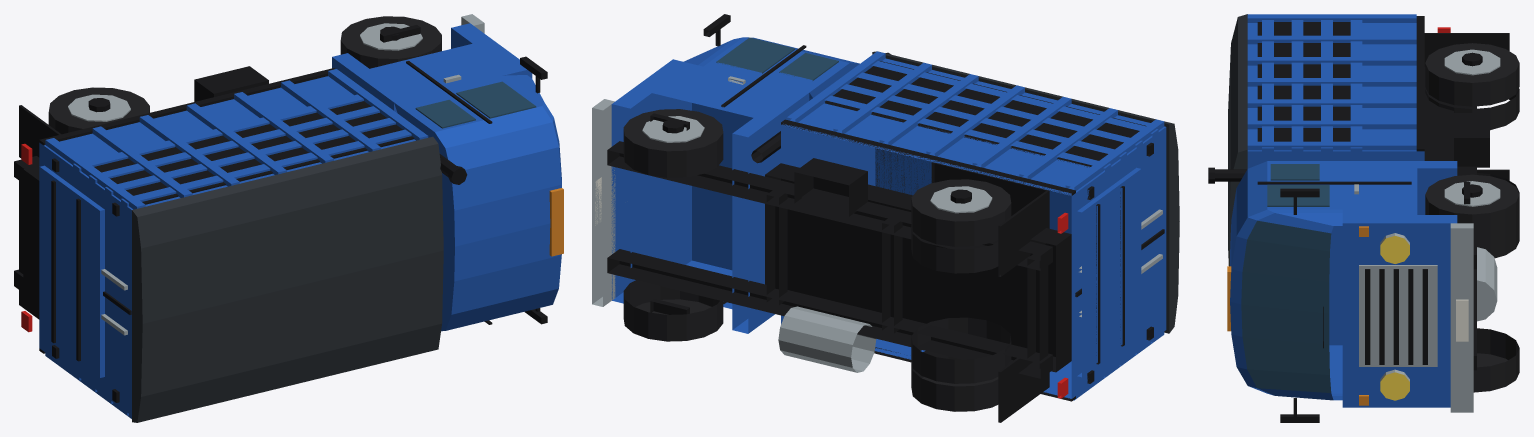
The picture shows the model from 3 angles, left to right: view 1: azimuth 30°, elevation 25°; view 2: azimuth 150°, elevation 25°; view 3: azimuth 270°, elevation 25°; orthographic projection. The views are drawn at different scales.
Parts seen in each view (by area): view 1: default_roof, default_cab_upper, default_body, default_ramp, default_side1_-3.45_2.70_black, default_cab_arch, default_front1, default_rear_out1, default_subframe, default_side1_-3.60_2.70_cc1, default_side1_-3.60_3.60_cc1, default_side1_-3.60_4.05_cc1 (+18 smaller); view 2: default_body, default_subframe, default_cab_arch, default_chassis-1, default_ramp, default_cab_front, default_side1_-3.45_2.70_black, default_cab_back, default_chassis1, default_front1, default_rear_out1, default_fuel_tank (+30 smaller); view 3: default_cab_upper, default_cab_front, default_body, default_grille, default_rear_out1, default_side1_-3.45_2.70_black, default_front1, default_bumper, default_cab_arch, default_roof, default_front-1, default_battery_box (+34 smaller).
Boxes of the visible parts, left/top/right/bottom form: default_roof: left=132, top=136, right=443, bottom=422; default_cab_upper: left=394, top=75, right=561, bottom=331; default_body: left=39, top=76, right=415, bottom=415; default_ramp: left=39, top=165, right=104, bottom=377; default_side1_-3.45_2.70_black: left=94, top=101, right=414, bottom=204; default_cab_arch: left=370, top=43, right=513, bottom=98; default_front1: left=340, top=16, right=441, bottom=68; default_rear_out1: left=48, top=87, right=149, bottom=134; default_subframe: left=23, top=165, right=39, bottom=308; default_side1_-3.60_2.70_cc1: left=73, top=94, right=363, bottom=171; default_side1_-3.60_3.60_cc1: left=105, top=118, right=395, bottom=194; default_side1_-3.60_4.05_cc1: left=121, top=129, right=411, bottom=206; default_body: left=781, top=58, right=1166, bottom=398; default_subframe: left=765, top=163, right=1071, bottom=372; default_cab_arch: left=652, top=64, right=793, bottom=308; default_chassis-1: left=607, top=249, right=1052, bottom=378; default_ramp: left=1077, top=167, right=1141, bottom=377; default_cab_front: left=611, top=59, right=691, bottom=303; default_side1_-3.45_2.70_black: left=825, top=61, right=1146, bottom=167; default_cab_back: left=732, top=89, right=809, bottom=333; default_chassis1: left=607, top=141, right=1052, bottom=270; default_front1: left=623, top=109, right=723, bottom=177; default_rear_out1: left=911, top=179, right=1011, bottom=246; default_fuel_tank: left=778, top=306, right=876, bottom=372; default_cab_upper: left=1230, top=161, right=1342, bottom=400; default_cab_front: left=1342, top=215, right=1457, bottom=407; default_body: left=1247, top=23, right=1424, bottom=341; default_grille: left=1359, top=265, right=1437, bottom=366; default_rear_out1: left=1425, top=43, right=1519, bottom=106; default_side1_-3.45_2.70_black: left=1257, top=22, right=1350, bottom=141; default_front1: left=1425, top=174, right=1519, bottom=239; default_bumper: left=1450, top=223, right=1473, bottom=412; default_cab_arch: left=1342, top=168, right=1417, bottom=214; default_roof: left=1228, top=14, right=1247, bottom=266; default_front-1: left=1473, top=328, right=1519, bottom=392; default_battery_box: left=1454, top=113, right=1489, bottom=167.
Size of the model in its own units: 7.62 by 3.9 by 4.75.
